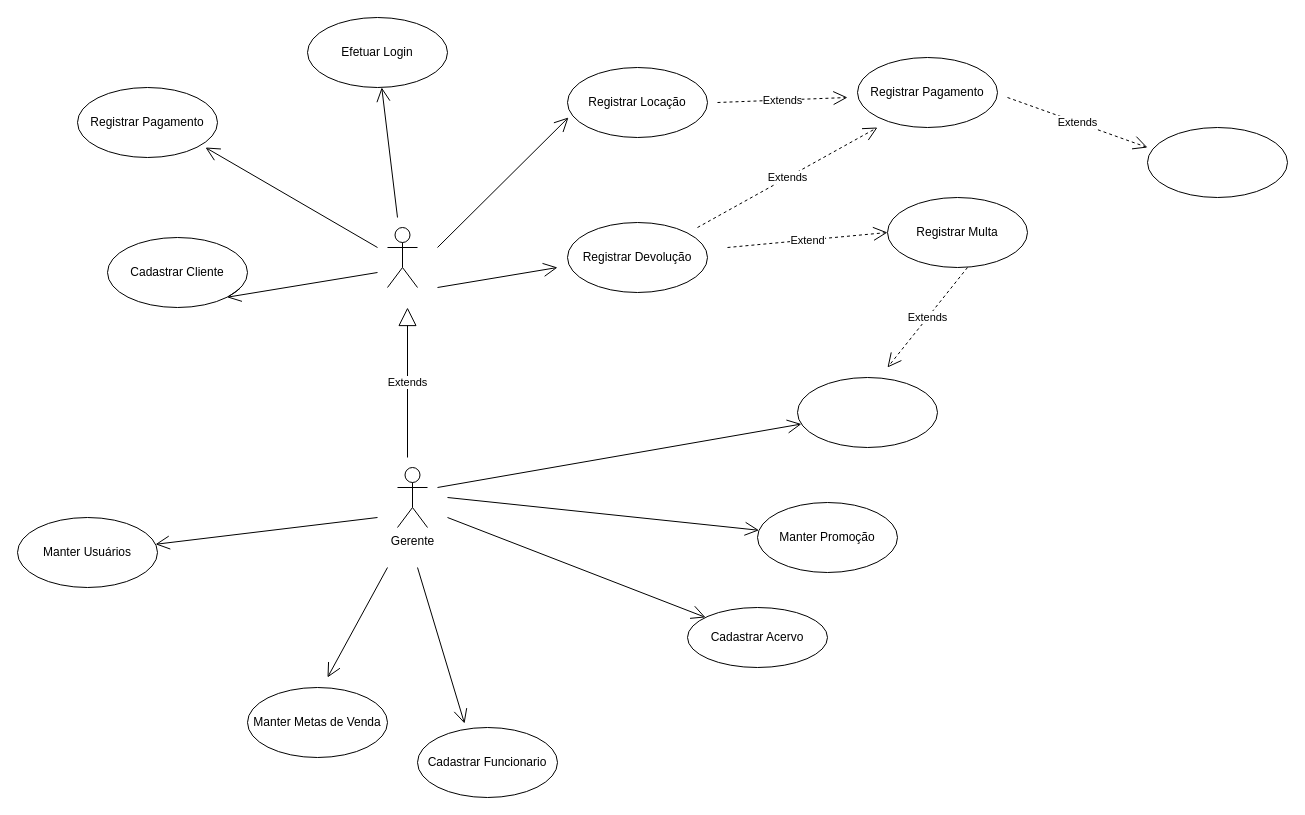
The diagram is 1305 pixels wide and 815 high, and some of its shapes have lost their labels. Here are the shapes that lost their labels. From the top down, the box of each, then its label:
(1146, 126, 1288, 198): Aplicat Cupom de Desconto
(386, 226, 418, 288): Funcionario
(796, 376, 938, 448): Cancelar Multa
